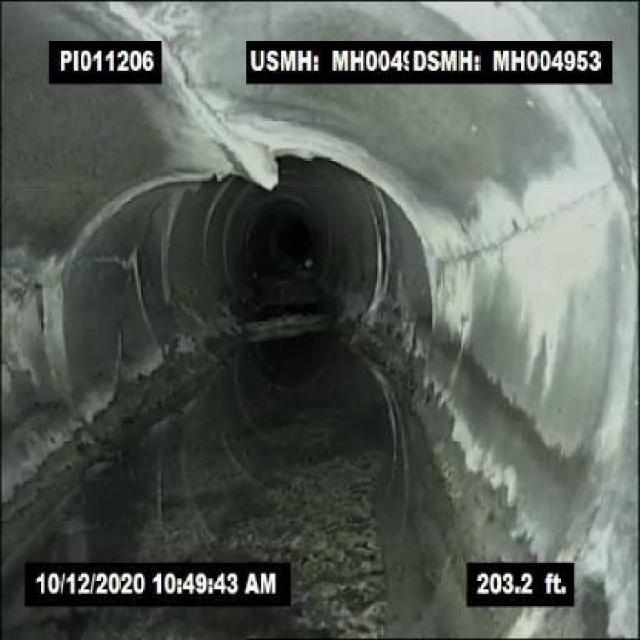Buckling: (191, 88, 280, 194)
Crack: (498, 182, 610, 243), (121, 2, 194, 88), (434, 234, 500, 271)
Hole: (11, 258, 58, 352)
